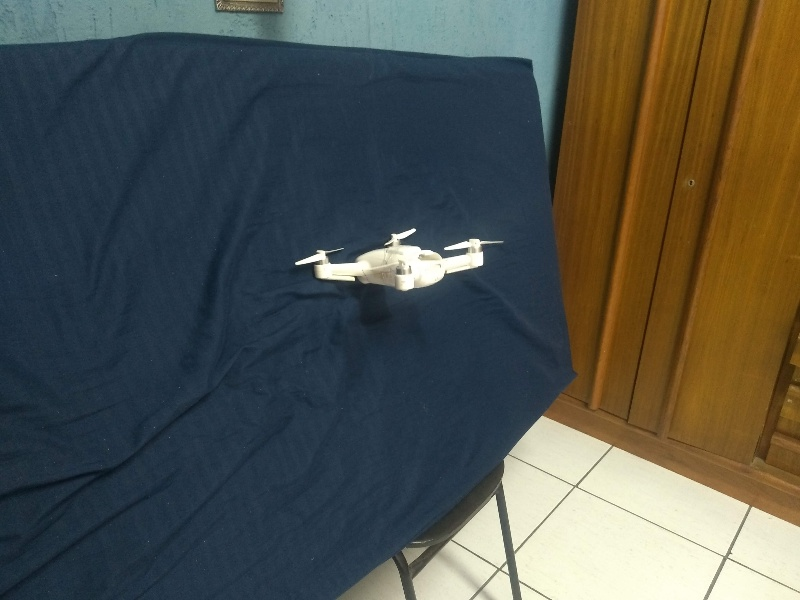drone: (285, 221, 507, 299)
